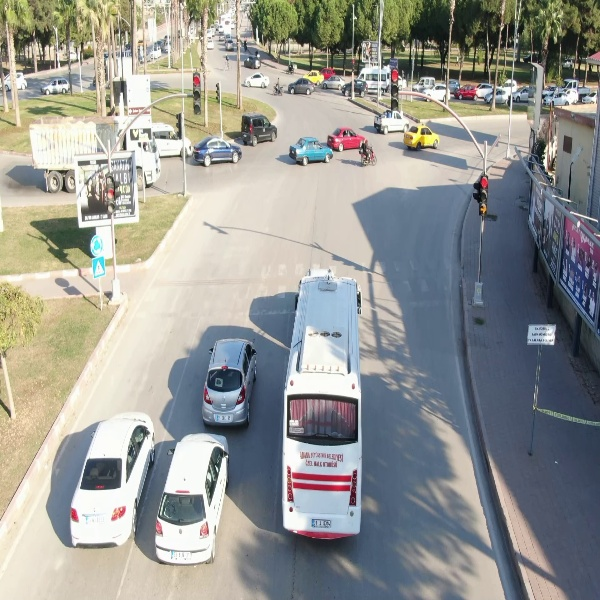car: (280, 273, 365, 544), (66, 411, 158, 549), (153, 429, 234, 567), (201, 338, 260, 428), (191, 136, 243, 166), (289, 137, 335, 170), (240, 112, 280, 146), (403, 124, 443, 153), (39, 75, 71, 97), (340, 78, 370, 99), (286, 77, 317, 97), (243, 70, 272, 90), (453, 83, 479, 101), (321, 74, 345, 91), (243, 55, 262, 70)
